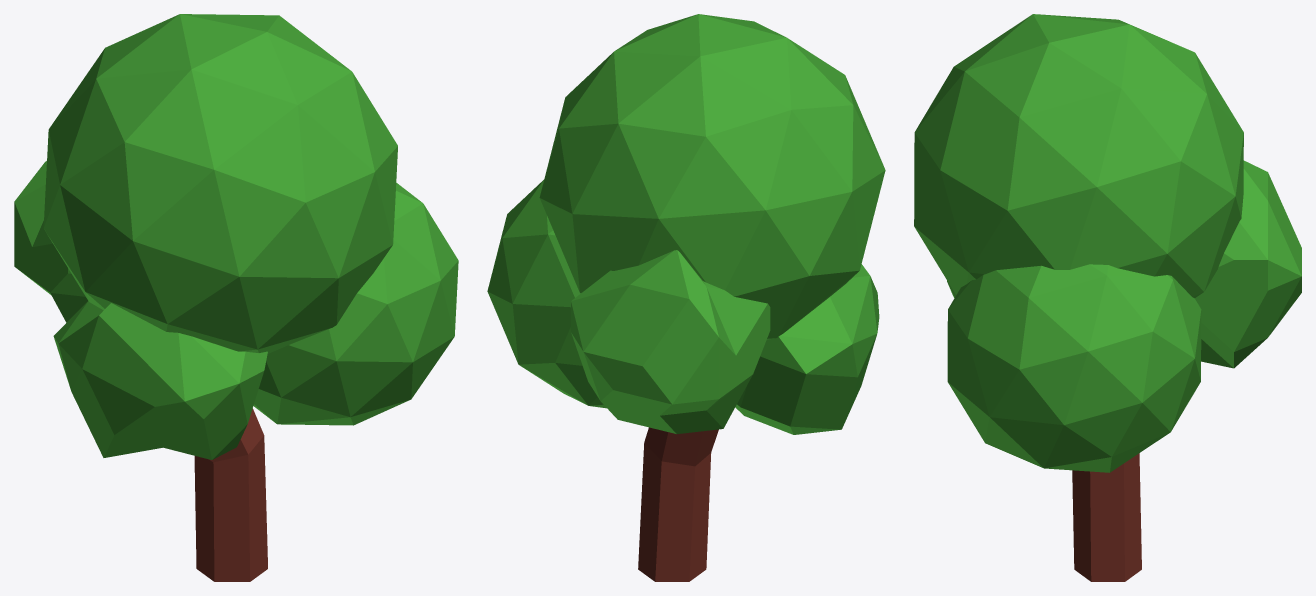
File: Tree2.fbx
3 renders of one model, left to right at view 1: azimuth 30°, elevation 25°; view 2: azimuth 150°, elevation 25°; view 3: azimuth 270°, elevation 25°, orthographic. The views are drawn at different scales.
Parts seen in each view (by area): view 1: Tree 2; view 2: Tree 2; view 3: Tree 2.
Part boxes in pixels (x1,y1,x2,y2): Tree 2: (14, 14, 458, 581); Tree 2: (487, 14, 885, 581); Tree 2: (914, 14, 1301, 581).
Size of the model in its own units: 1202 by 1721 by 1144.
